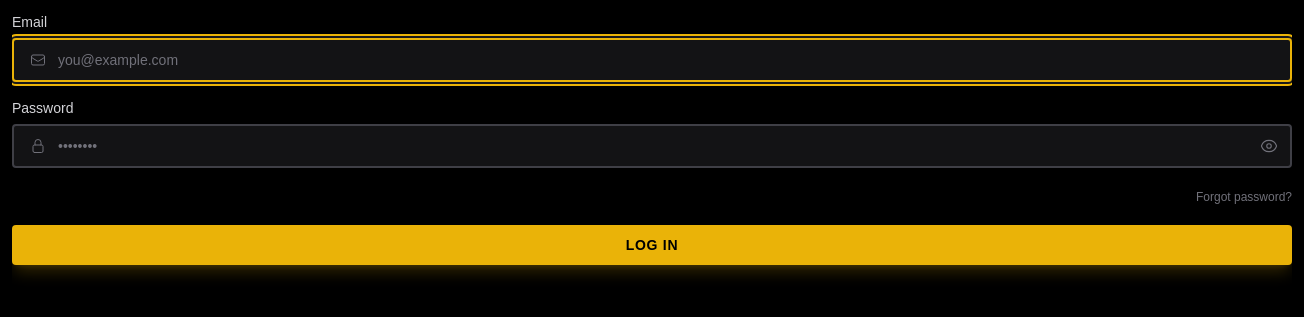
Test: AuthForm › validation errors display adjacent to fields › displays password validation error when password is empty on submit
This screenshot has width=1304, height=317.
Type "user@example.com" into the field labelled "Email" at (668, 60), box [46,40,1290,80]
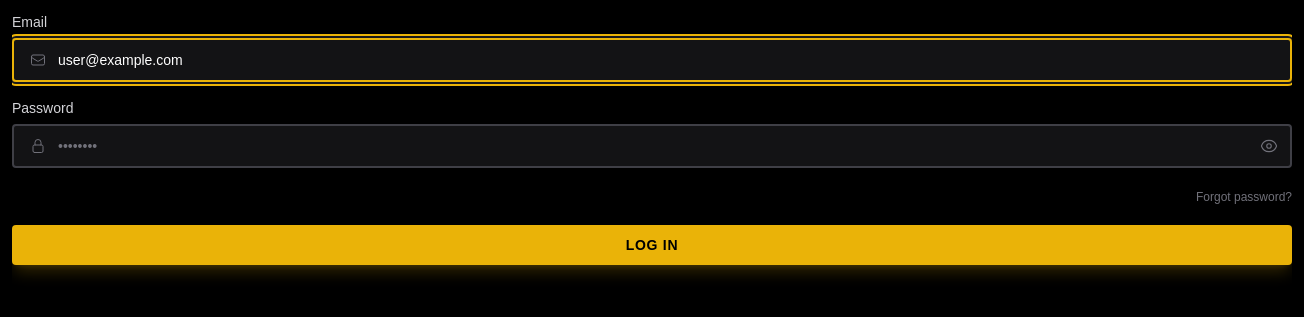
Submit the form "Email Password Forgot password? Log In"
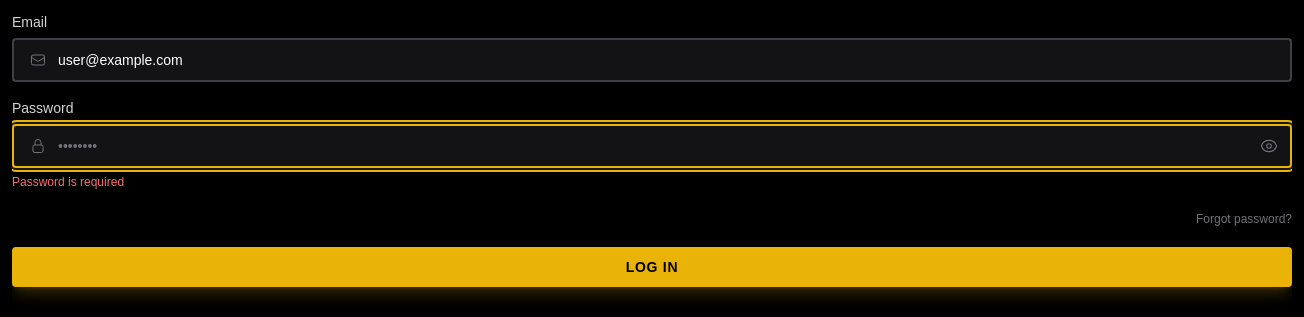
expect the text "Password is required" is shown: met, box [12,175,124,189]
